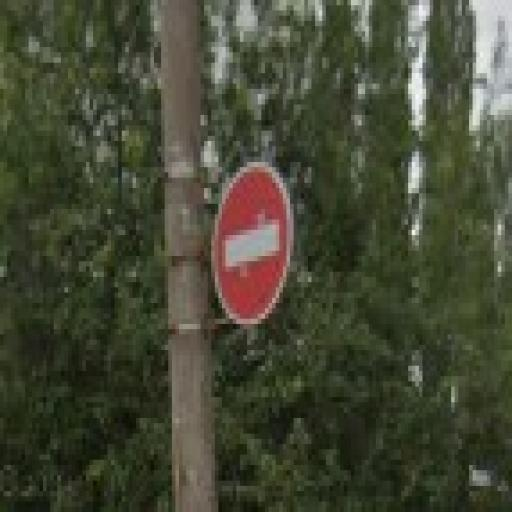traffic_sign: (212, 158, 295, 330)
